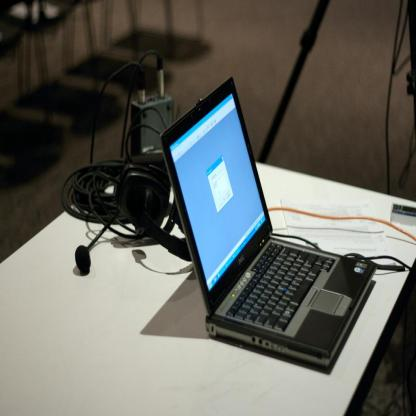board: (161, 76, 376, 369)
